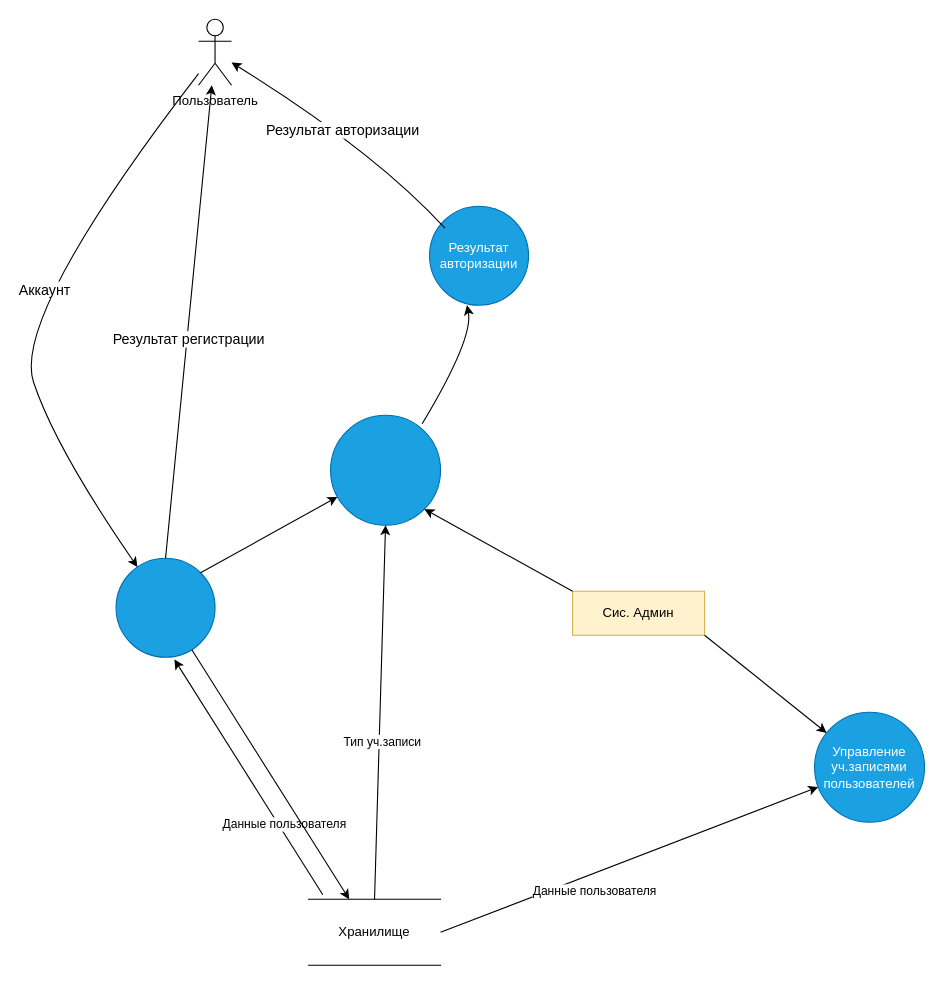
This 944x985 diagram has some shape labels left out. Here are the shapes that lost their labels. From the top down, the centre of each, then its label:
At [385,469]: "Управление пользователями".
At [165,607]: "Регистрация и вход".
